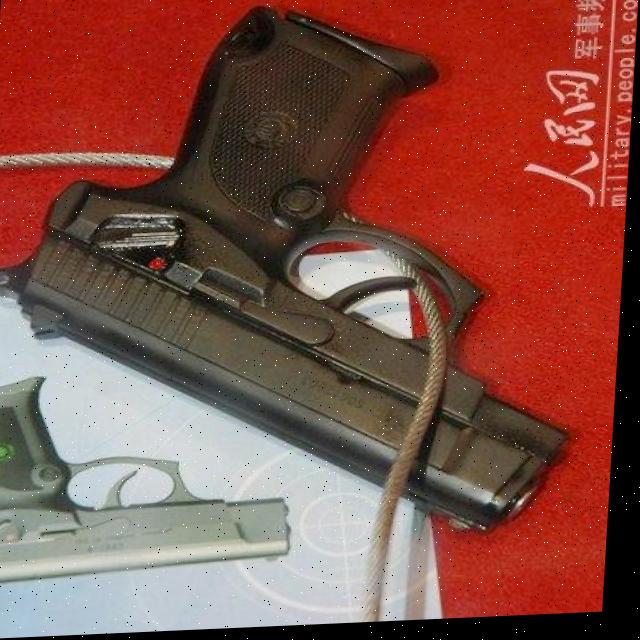pistol: (0, 0, 592, 555), (0, 368, 307, 590)
